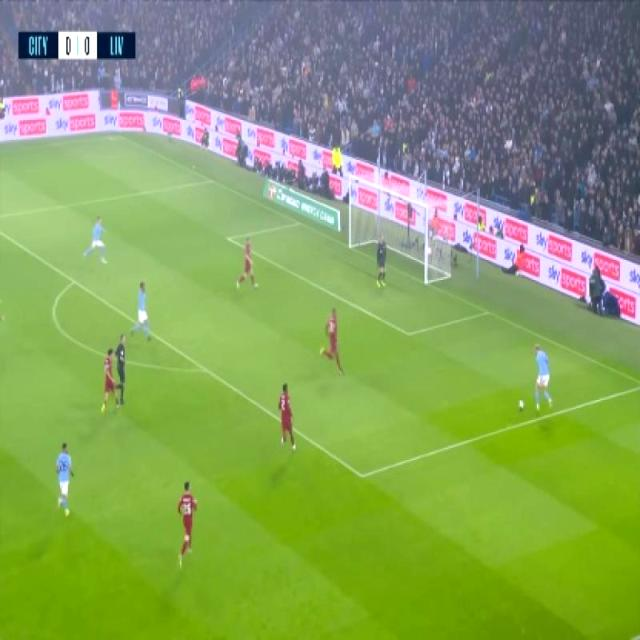bigarea_bottom_inner: (351, 462, 371, 488)
bigarea_top_outter: (204, 170, 218, 188)
bottom_arc_area_intersection: (196, 357, 214, 378)
corner: (108, 129, 124, 141)
smallarea_bottom_inner: (398, 320, 417, 346)
smallarea_bottom_outter: (478, 302, 494, 320)
smallarea_top_inner: (218, 228, 234, 246)
smallarea_top_outter: (291, 214, 306, 231)
top_arc_area_intersection: (63, 270, 82, 292)
